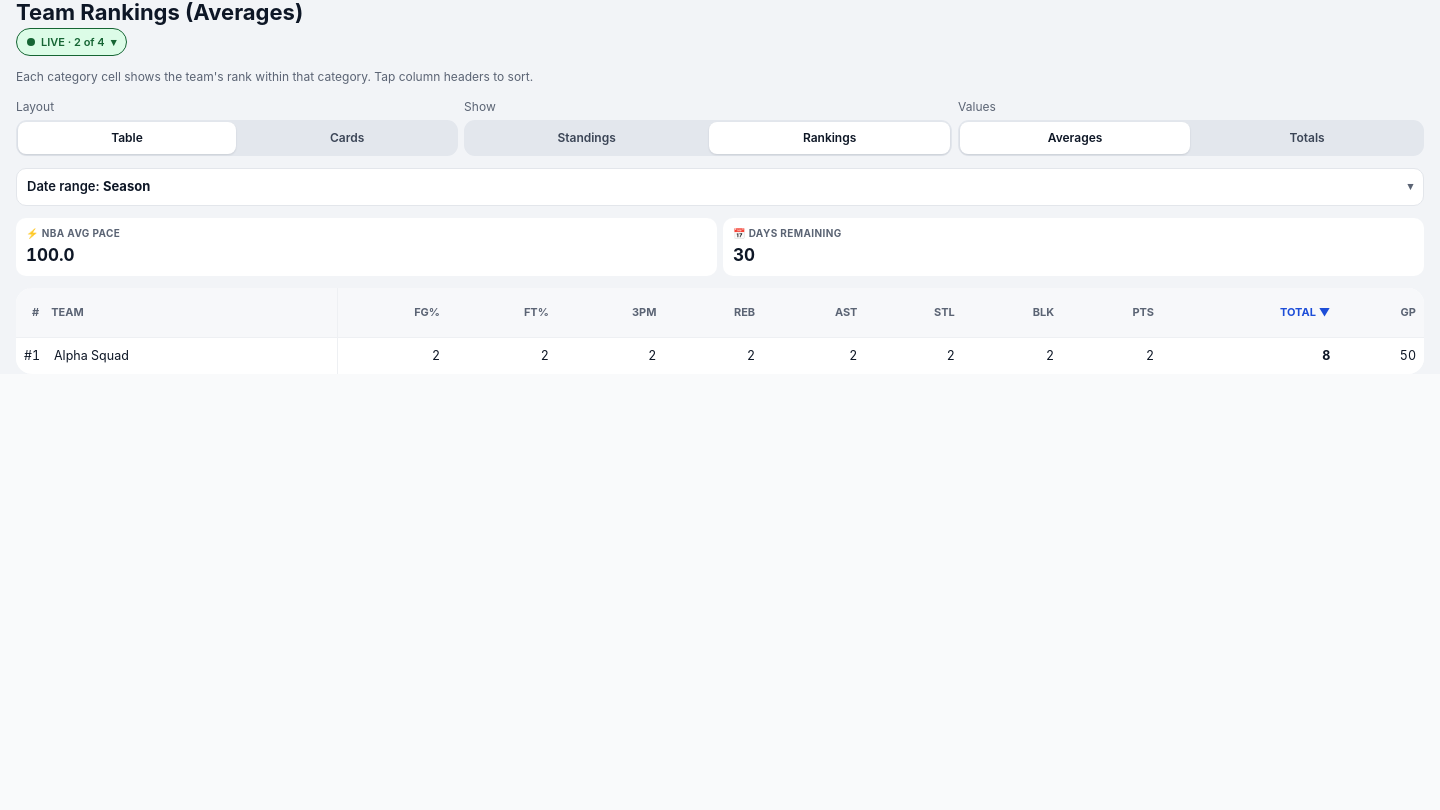
Test: Rankings live badge (mobile) › explains what averages and totals count
The width and height of the screenshot is (1440, 810).
Click the button "LIVE · 2 of 4 ▾". click: {"x": 72, "y": 42}
box: [16, 28, 127, 56]
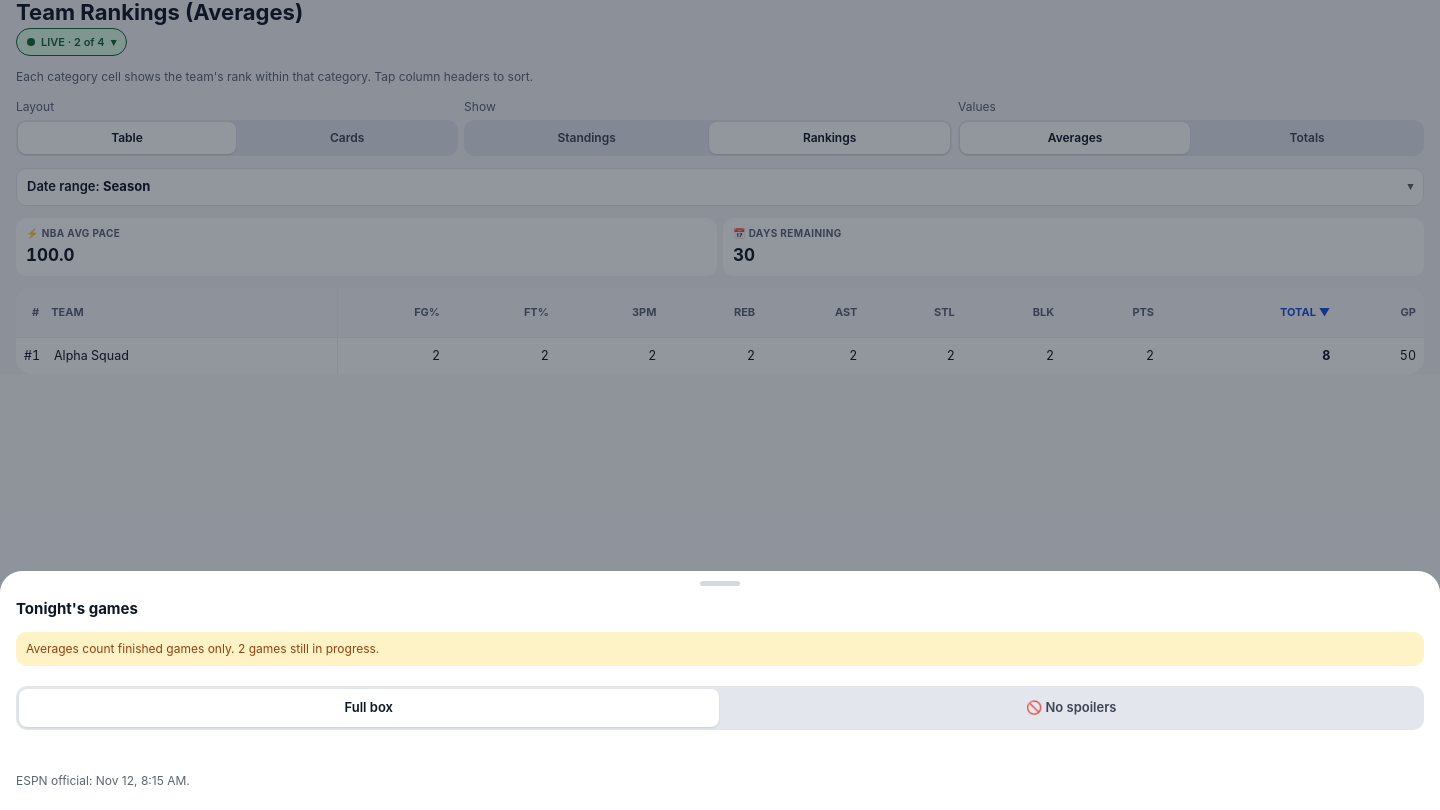
Now the text "Averages count finished games only. 2 games still in progress." is shown, box [16, 632, 1424, 666]
